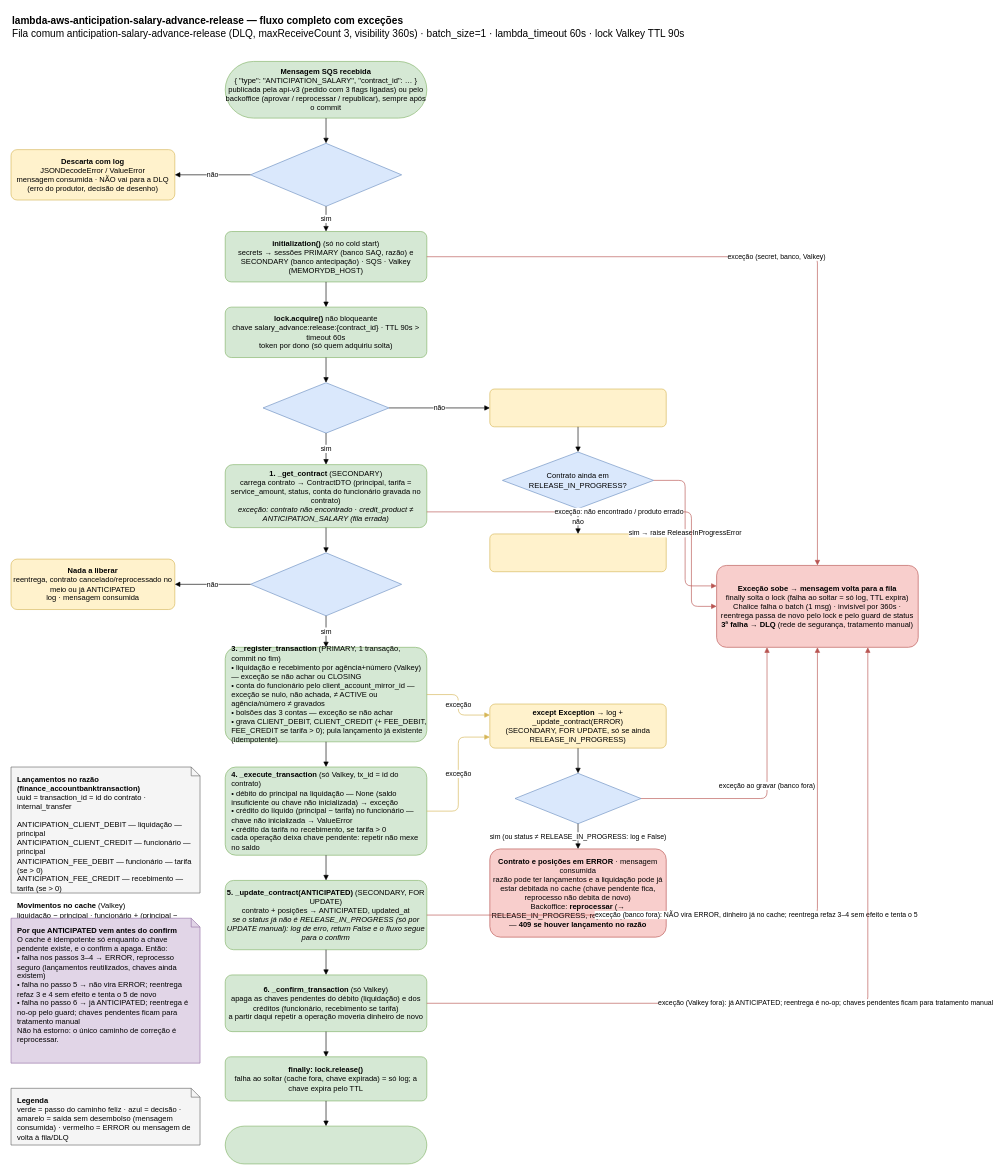
The diagram is 1004 pixels wide and 1175 high, and some of its shapes have lost their labels. The box of each missing label's shape, as (x1, y1, x2, y2) in pixels:
2. Guard status = RELEASE_IN_PROGRESS?: (250, 552, 402, 616)
Conseguiu gravar?: (514, 773, 641, 824)
Conseguiu o lock?: (262, 382, 389, 433)
JSON válido, type = ANTICIPATION_SALARY e contract_id presente?: (250, 143, 402, 206)
No-op : a outra execução já concluiu log · mensagem consumida: (489, 533, 666, 572)
Outra execução está neste contrato _get_contract(contract_id) (SECONDARY): (489, 388, 666, 427)
Sucesso · log "completed successfully" · mensagem consumida: (225, 1125, 427, 1164)
